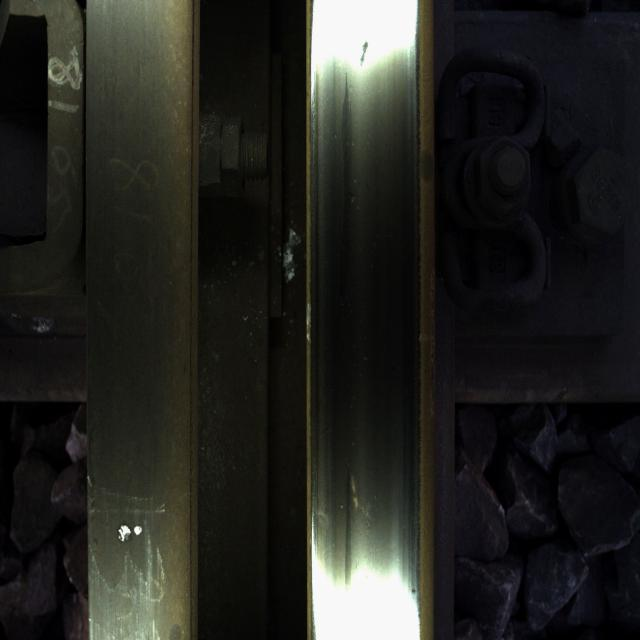crack: (90, 422, 166, 602), (319, 17, 409, 102)
